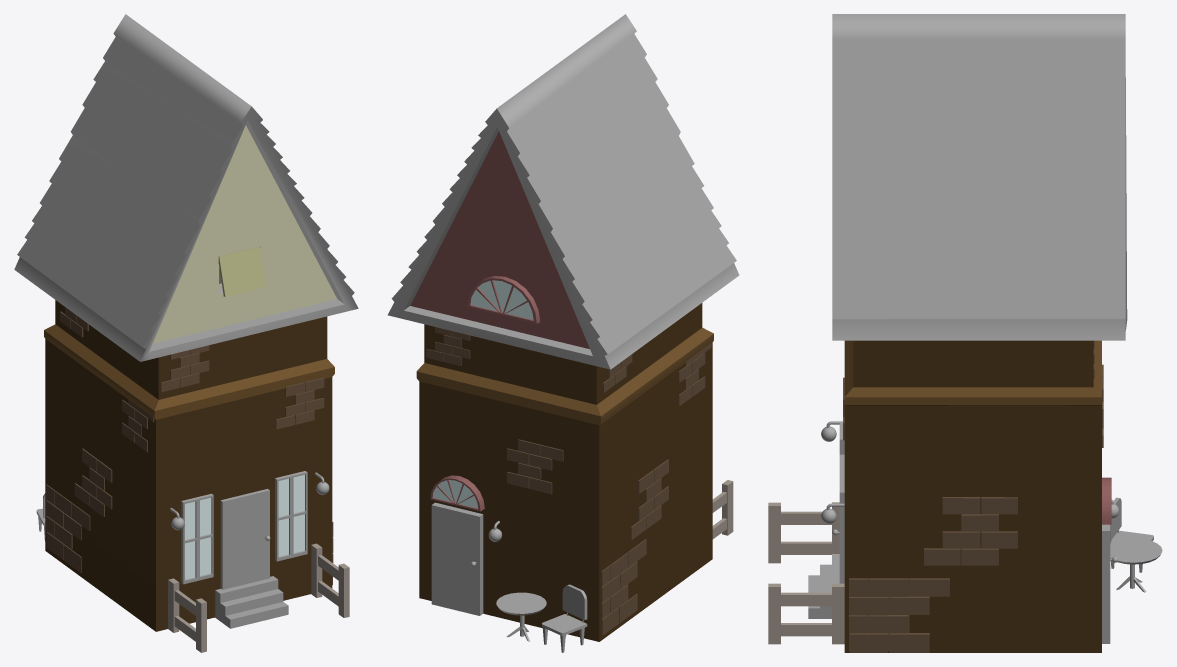
Rendered from Building 1- fbx.fbx.
The picture shows the model from 3 angles, left to right: view 1: azimuth 30°, elevation 25°; view 2: azimuth 150°, elevation 25°; view 3: azimuth 270°, elevation 25°; orthographic projection. The views are drawn at different scales.
Visible parts, largest first — view 1: building1; view 2: building1; view 3: building1.
Part boxes in pixels (box(x1,y1,x2,y2)): building1: box(14, 14, 358, 652); building1: box(387, 14, 739, 652); building1: box(768, 14, 1162, 652).
Bounding box in the file's own units: 4.63 × 10.3 × 6.22.
